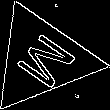M_SE: (4, 25, 79, 92)
